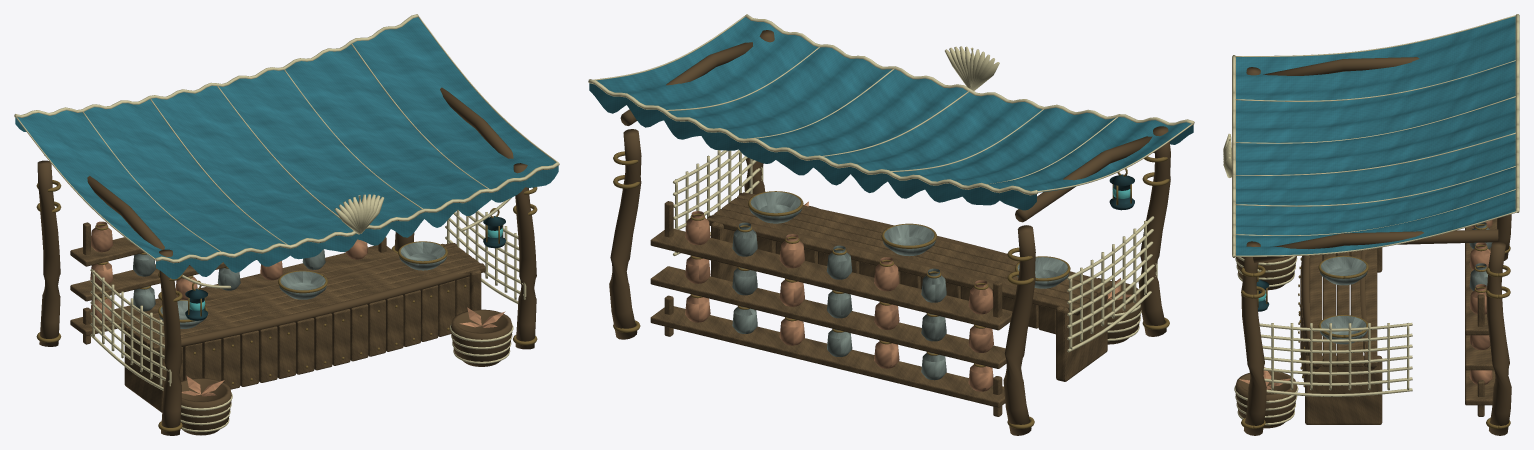
Rendered from Summer_Shop.fbx.
The picture shows the model from 3 angles, left to right: view 1: azimuth 30°, elevation 25°; view 2: azimuth 150°, elevation 25°; view 3: azimuth 270°, elevation 25°; orthographic projection. The views are drawn at different scales.
Visible parts, largest first — view 1: Summer_Shop_Cloth, Summer_Shop_Wood, Summer_Shop_Ivory, Summer_Shop_Stone, Summer_Shop_Accent, Summer_Shop_Metal, Summer_Shop_Iron; view 2: Summer_Shop_Wood, Summer_Shop_Cloth, Summer_Shop_Ivory, Summer_Shop_Stone, Summer_Shop_Accent, Summer_Shop_Metal, Summer_Shop_Iron; view 3: Summer_Shop_Cloth, Summer_Shop_Wood, Summer_Shop_Ivory, Summer_Shop_Stone, Summer_Shop_Metal, Summer_Shop_Accent.
Boxes of the visible parts, bbox=[...] form: Summer_Shop_Cloth: bbox=[15, 17, 558, 279]; Summer_Shop_Wood: bbox=[37, 87, 536, 435]; Summer_Shop_Ivory: bbox=[14, 14, 559, 432]; Summer_Shop_Stone: bbox=[133, 242, 446, 328]; Summer_Shop_Accent: bbox=[90, 221, 505, 396]; Summer_Shop_Metal: bbox=[36, 180, 537, 431]; Summer_Shop_Iron: bbox=[185, 216, 505, 320]; Summer_Shop_Wood: bbox=[609, 30, 1170, 435]; Summer_Shop_Cloth: bbox=[589, 17, 1193, 210]; Summer_Shop_Ivory: bbox=[588, 14, 1194, 352]; Summer_Shop_Stone: bbox=[732, 192, 1069, 380]; Summer_Shop_Accent: bbox=[685, 201, 1131, 391]; Summer_Shop_Metal: bbox=[613, 151, 1169, 428]; Summer_Shop_Iron: bbox=[1109, 174, 1134, 210]; Summer_Shop_Cloth: bbox=[1236, 16, 1515, 255]; Summer_Shop_Wood: bbox=[1235, 57, 1511, 435]; Summer_Shop_Ivory: bbox=[1223, 14, 1519, 425]; Summer_Shop_Stone: bbox=[1319, 222, 1492, 344]; Summer_Shop_Metal: bbox=[1241, 224, 1510, 428]; Summer_Shop_Accent: bbox=[1239, 220, 1492, 389].
Bounding box in the file's own units: 10.93 × 6.17 × 6.9.
